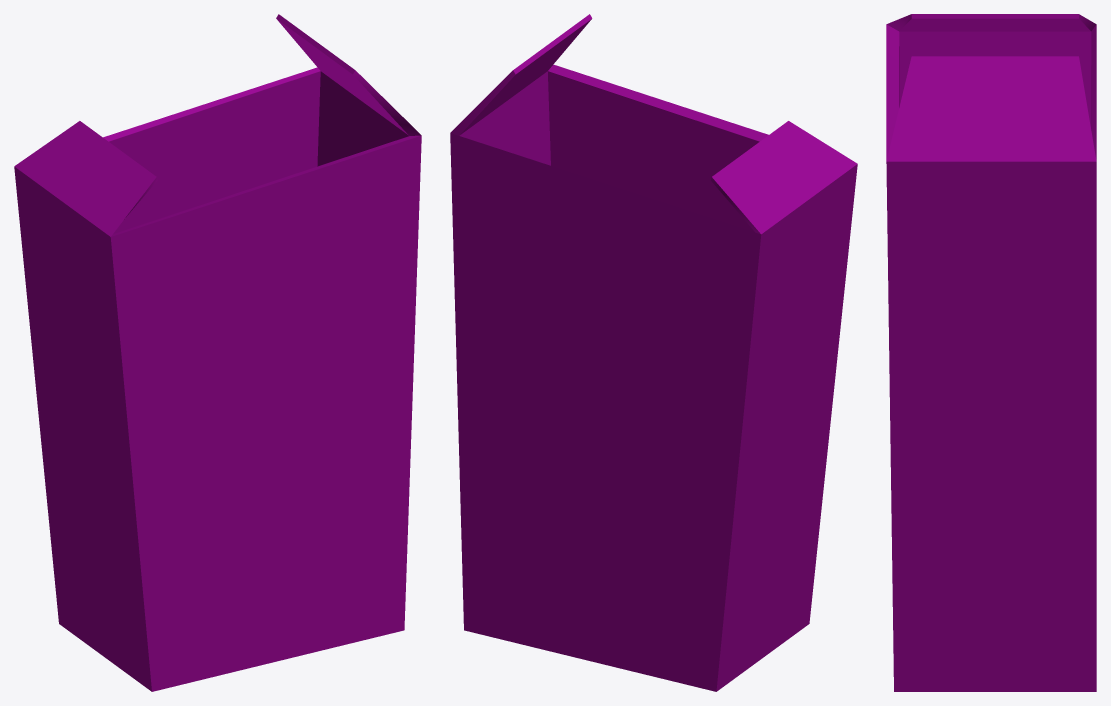
File: Cereal1.FBX
3 views of the same model, side by side, from view 1: azimuth 30°, elevation 25°; view 2: azimuth 150°, elevation 25°; view 3: azimuth 270°, elevation 25° (orthographic). The views are drawn at different scales.
Visible parts, largest first — view 1: PRP_Cereal1_1; view 2: PRP_Cereal1_1; view 3: PRP_Cereal1_1.
Boxes of the visible parts, x1=… form: PRP_Cereal1_1: x1=14, y1=14, x2=421, y2=691; PRP_Cereal1_1: x1=450, y1=14, x2=857, y2=691; PRP_Cereal1_1: x1=886, y1=14, x2=1096, y2=691.
Bounding box in the file's own units: 25.91 × 44.91 × 13.93.
